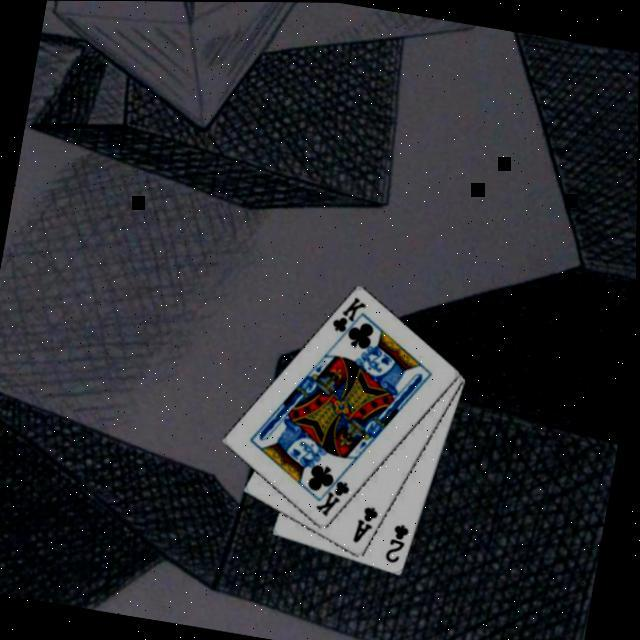2C: (386, 518, 416, 566)
AC: (352, 498, 387, 546)
KC: (330, 290, 373, 344), (316, 465, 358, 520)
